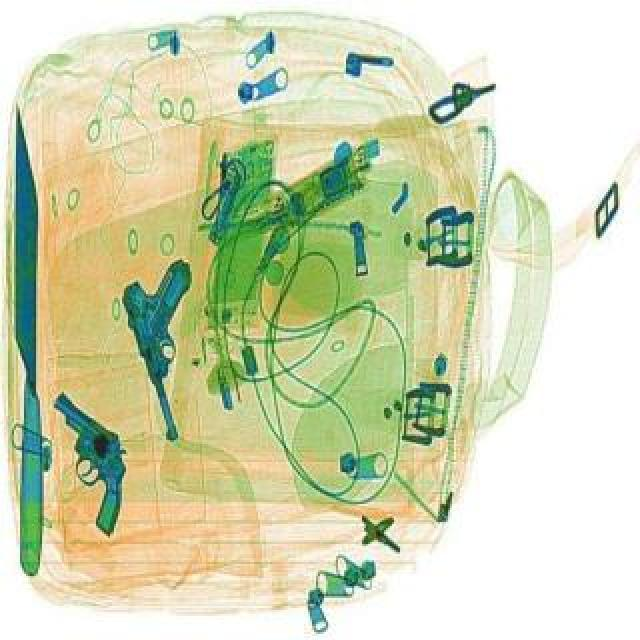gun: (2, 390, 168, 536), (112, 254, 240, 440)
knife: (8, 100, 44, 576)
